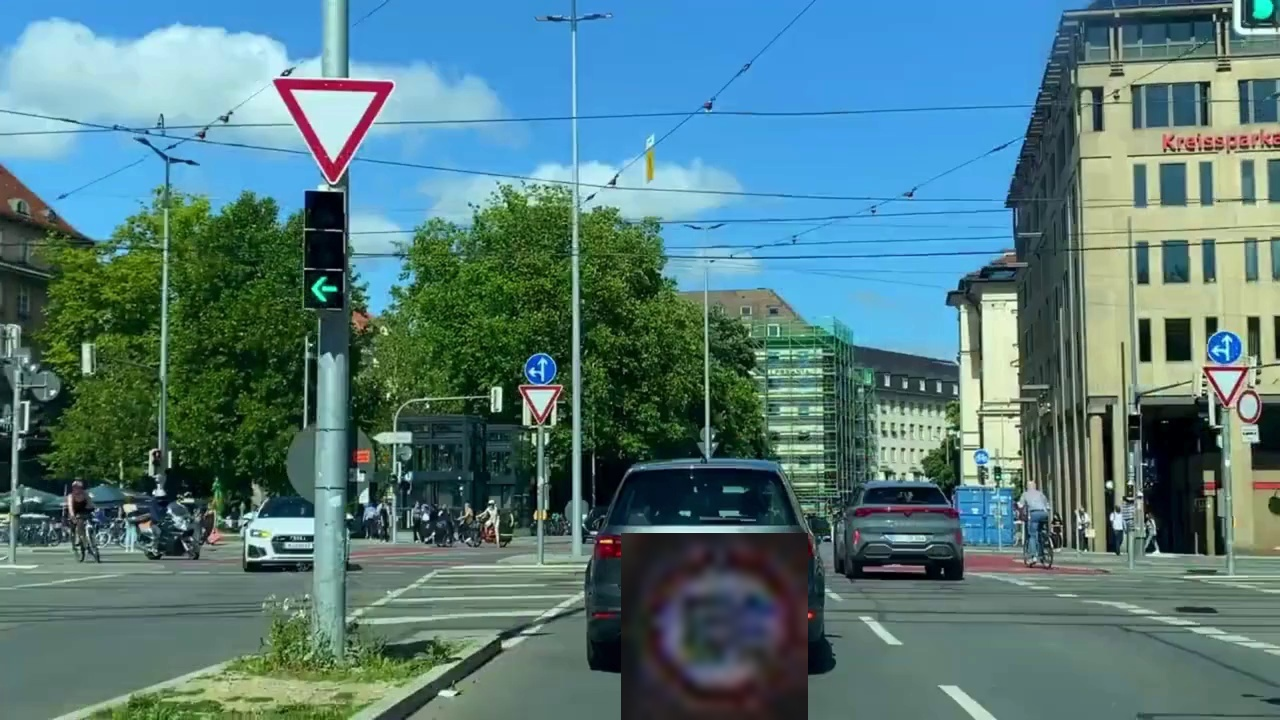Speed 100: (621, 533, 808, 720)
